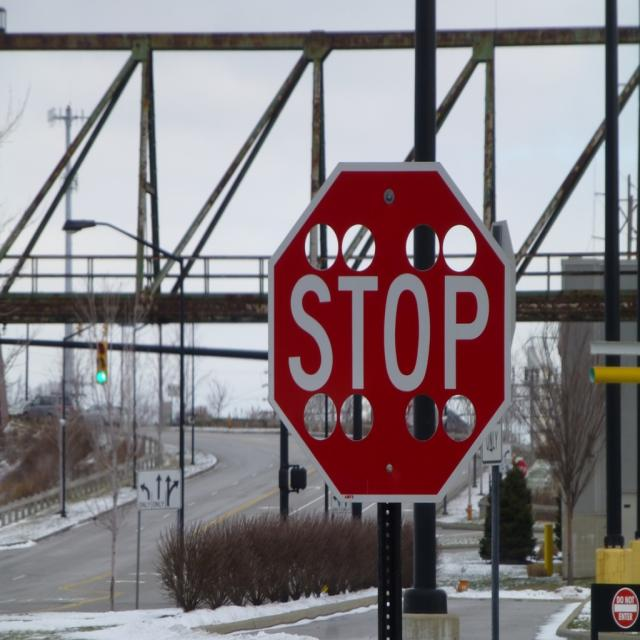Stop-sign: (266, 165, 514, 498)
